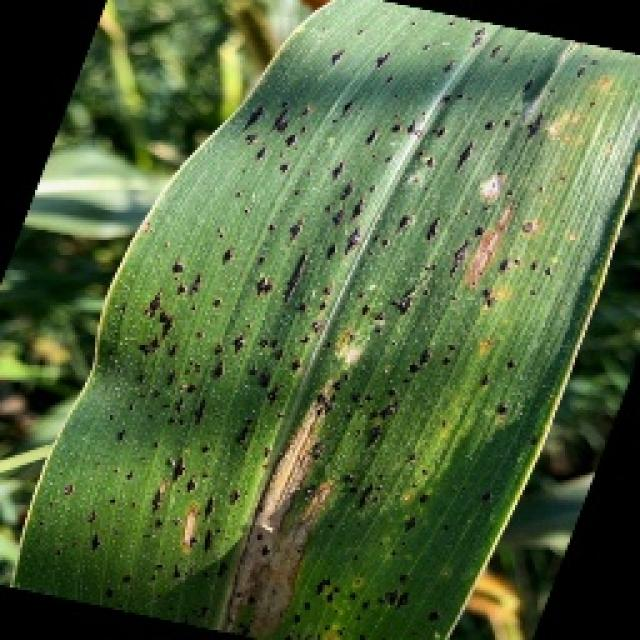Tar_Spot: (326, 6, 510, 465), (109, 205, 289, 516)
